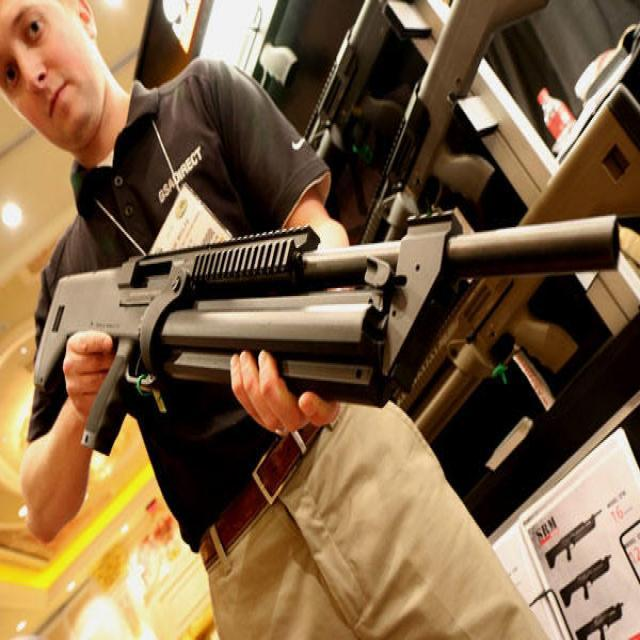shotgun: (27, 209, 640, 441)
